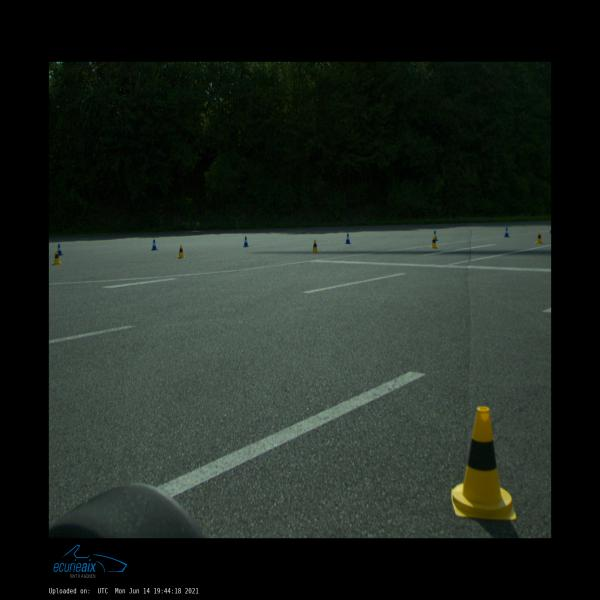blue_cone: (56, 245, 63, 256), (151, 240, 158, 250), (345, 234, 351, 244), (243, 237, 249, 247), (504, 227, 509, 237), (432, 231, 437, 240)
yellow_cone: (451, 406, 516, 520), (53, 251, 62, 265), (177, 245, 186, 258), (430, 236, 438, 248), (311, 240, 319, 252), (536, 232, 543, 244)
